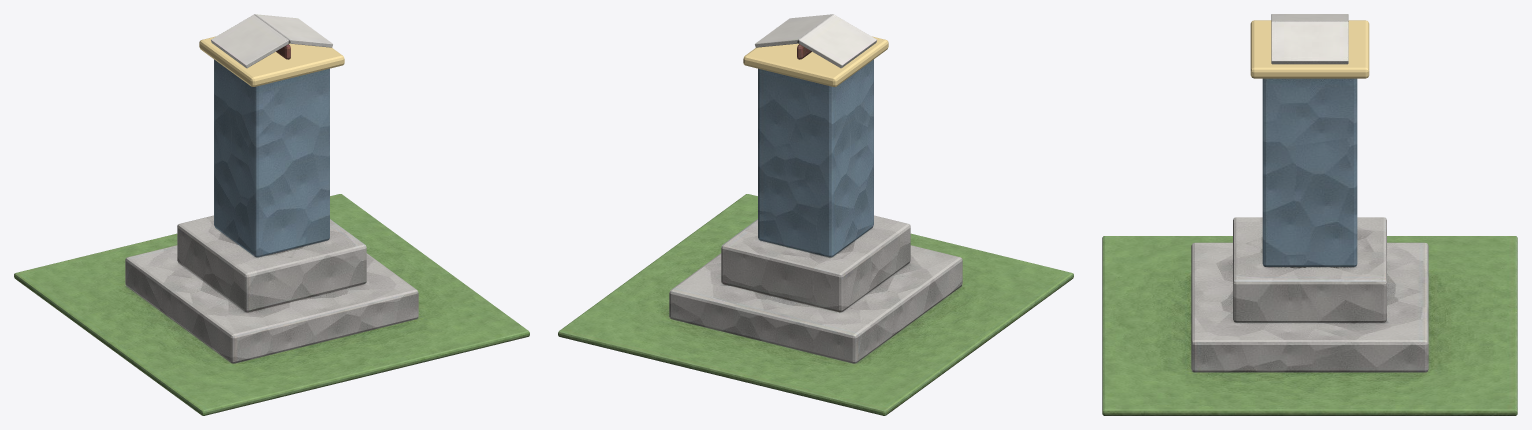
File: buch_scifi.glb
3 renders of one model, left to right at view 1: azimuth 30°, elevation 25°; view 2: azimuth 150°, elevation 25°; view 3: azimuth 270°, elevation 25°, orthographic. The views are drawn at different scales.
Parts seen in each view (by area): view 1: buch_scifi, buch_scifi_details; view 2: buch_scifi, buch_scifi_details; view 3: buch_scifi, buch_scifi_details.
Part boxes in pixels (x1,y1,x2,y2): buch_scifi: (14,14,529,415); buch_scifi_details: (199,36,344,86); buch_scifi: (558,14,1073,415); buch_scifi_details: (743,36,888,86); buch_scifi: (1102,14,1517,415); buch_scifi_details: (1250,20,1369,78).
Bounding box in the file's own units: 0.7 × 0.5729 × 0.7.
Materials: 2 (1 with a texture image).
